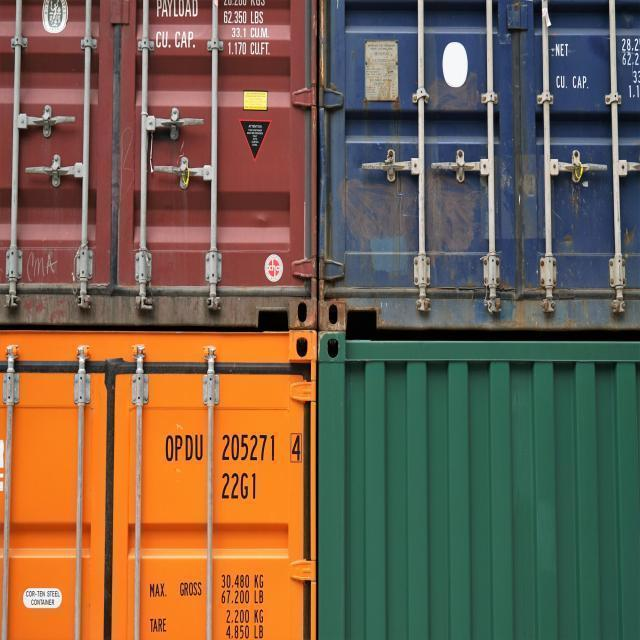ISO: (223, 470, 259, 500)
container_number: (165, 434, 298, 462)
